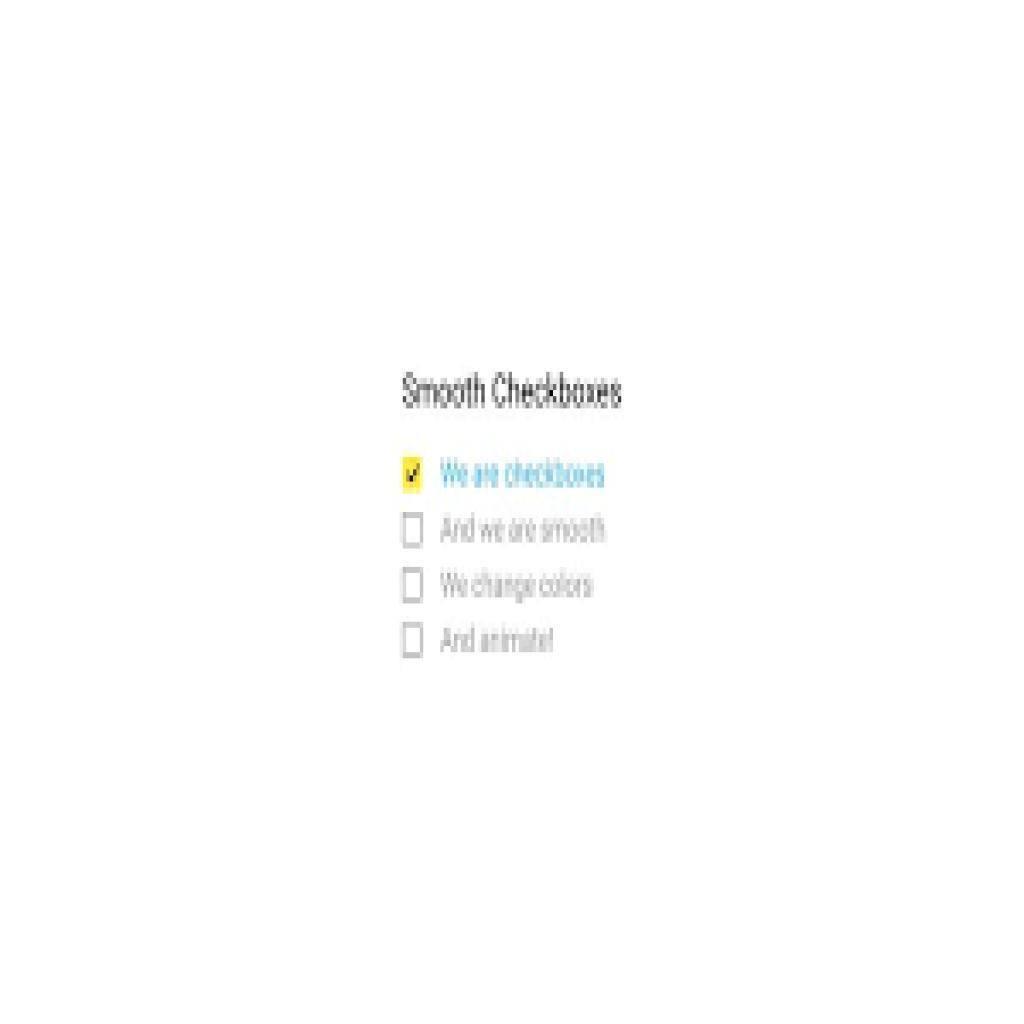checkbox: (401, 456, 427, 495), (402, 567, 426, 607), (404, 512, 426, 550), (404, 621, 425, 657)
